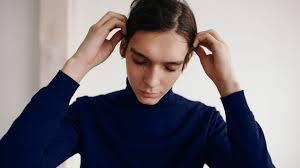Persons: (118, 0, 204, 112)
